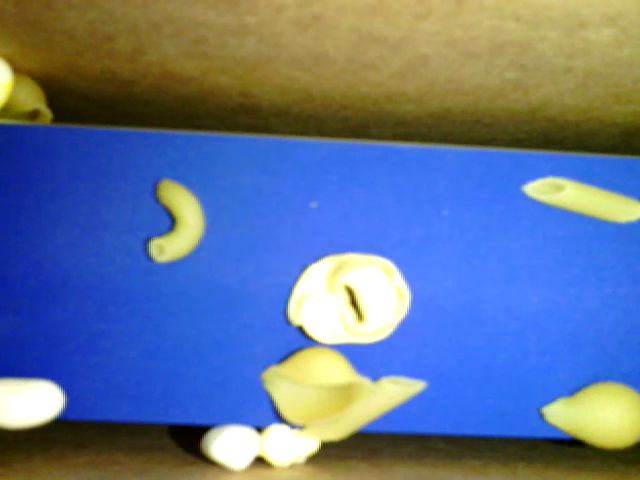elbow: (148, 174, 205, 262)
penne: (298, 372, 430, 443), (519, 174, 639, 228)
shell: (259, 344, 377, 427), (540, 380, 639, 451), (3, 74, 53, 127)
tortellini: (279, 251, 416, 344)
